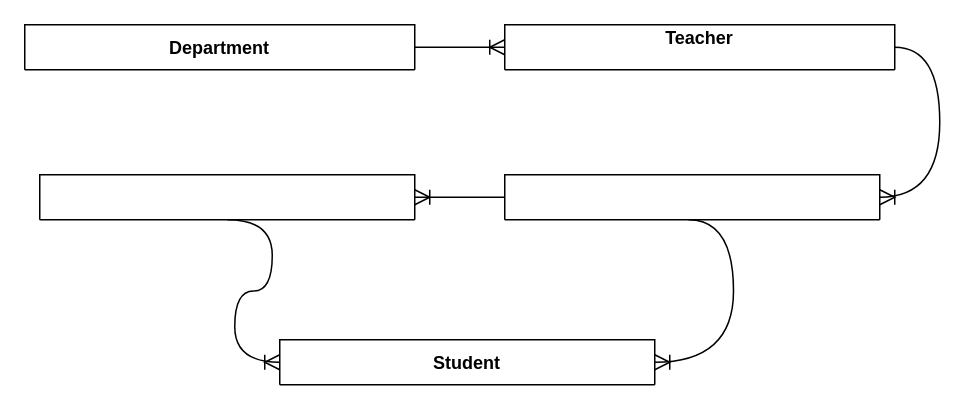
Image size: 965x410. Some labels were removed from this diagram. Each missing label, with the centre of its shape:
"Course" belongs at point 226,196.
"Enrolment" belongs at point 691,196.
